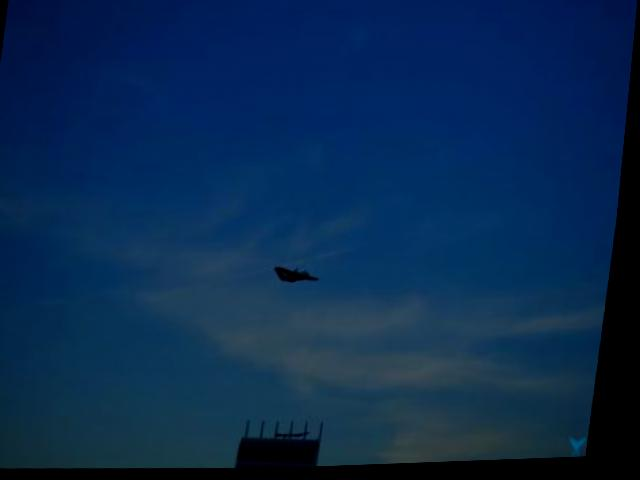uav: (269, 257, 333, 300)
